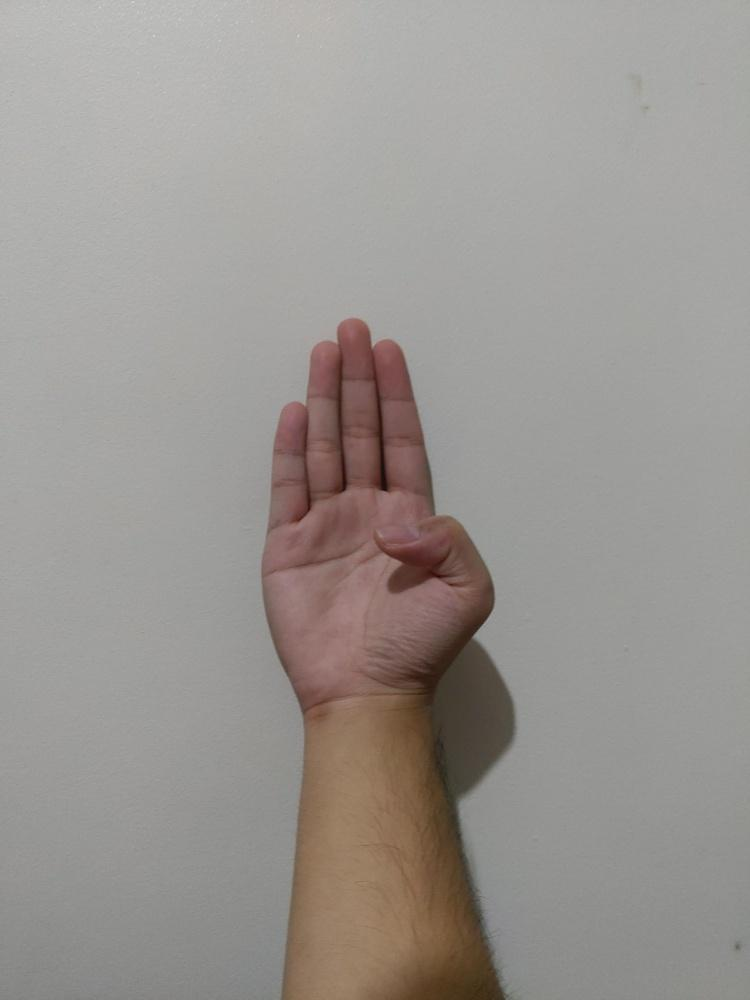b: (259, 315, 495, 713)
